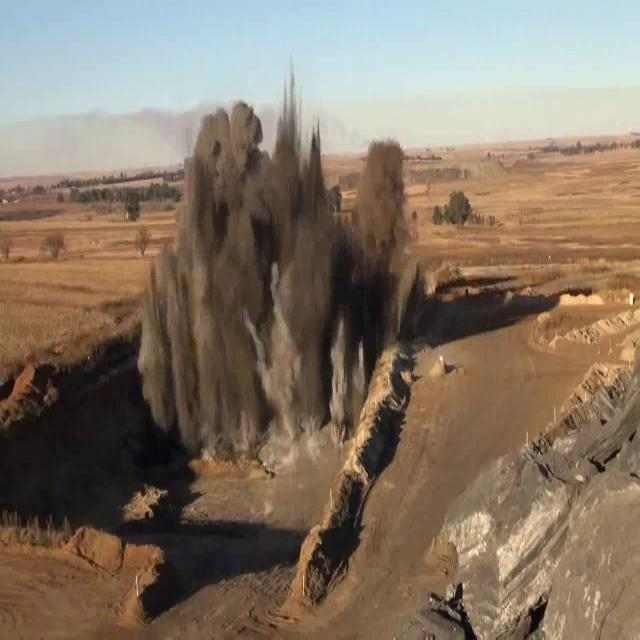explosion: (112, 89, 445, 512)
